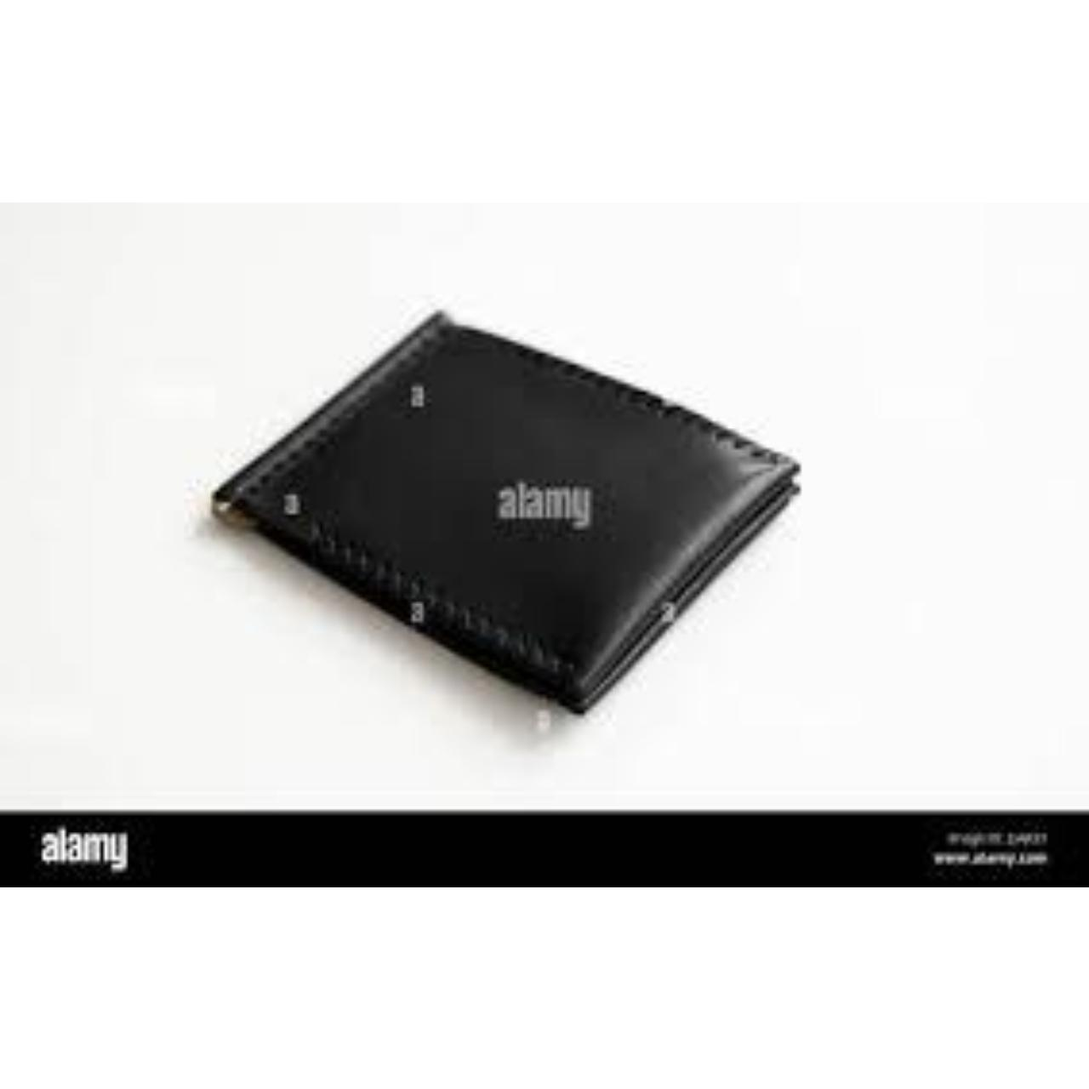wallet: (216, 280, 889, 730)
